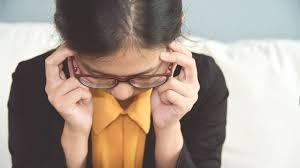Drowsy: (36, 1, 210, 152)
